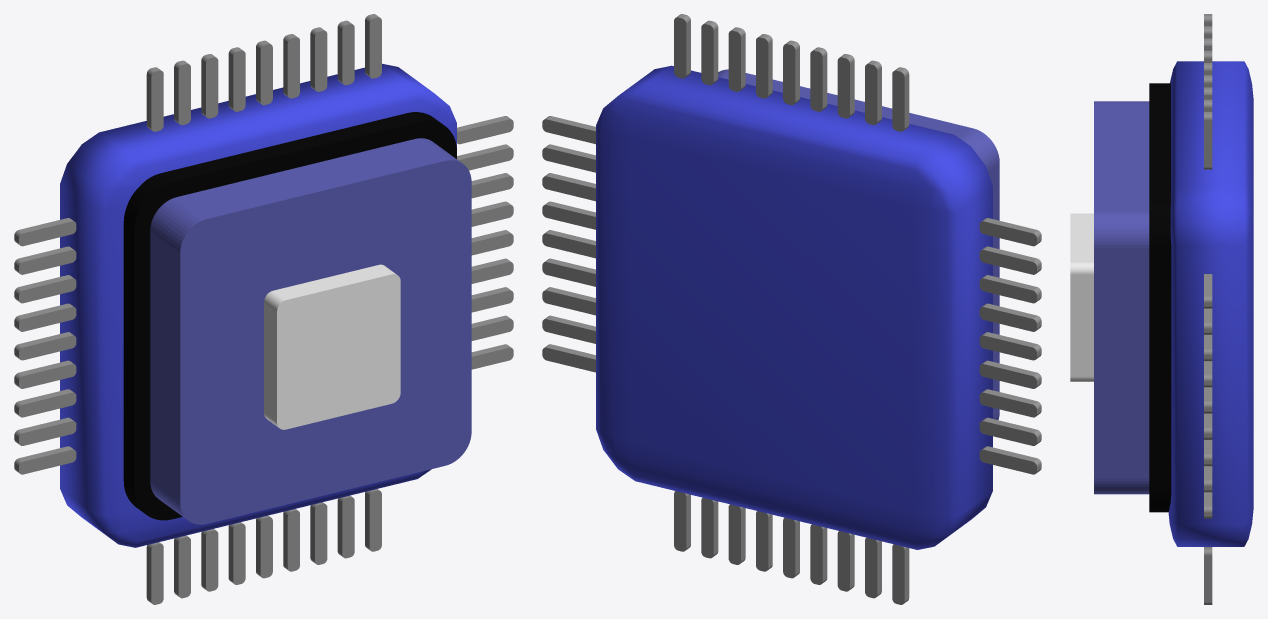
File: Semiconductor.fbx
3 renders of one model, left to right at view 1: azimuth 30°, elevation 25°; view 2: azimuth 150°, elevation 25°; view 3: azimuth 270°, elevation 25°, orthographic. The views are drawn at different scales.
Parts seen in each view (by area): view 1: Mesh_2.002, Cube.001, Mesh_3.002, Mesh_0.003, Mesh_30.002, Mesh_34.002, Mesh_14.002, Mesh_18.002, Mesh_6.002, Mesh_12.002, Mesh_36.002, Mesh_8.002 (+28 smaller); view 2: Cube.001, Mesh_2.002, Mesh_30.002, Mesh_34.002, Mesh_14.002, Mesh_18.002, Mesh_6.002, Mesh_33.002, Mesh_5.002, Mesh_25.002, Mesh_37.002, Mesh_13.002 (+26 smaller); view 3: Cube.001, Mesh_2.002, Mesh_0.003, Mesh_3.002, Mesh_38.002, Mesh_4.002, Mesh_39.002.
Boxes of the visible parts, x1,y1,x2,y2 form: Mesh_2.002: (150, 138, 471, 524); Cube.001: (60, 63, 456, 547); Mesh_3.002: (264, 264, 400, 429); Mesh_0.003: (123, 112, 456, 520); Mesh_30.002: (310, 27, 327, 91); Mesh_34.002: (337, 20, 354, 85); Mesh_14.002: (201, 54, 218, 118); Mesh_18.002: (228, 47, 245, 111); Mesh_6.002: (146, 67, 163, 131); Mesh_12.002: (310, 502, 327, 564); Mesh_36.002: (146, 542, 163, 604); Mesh_8.002: (337, 495, 354, 558); Cube.001: (596, 65, 992, 549); Mesh_2.002: (718, 69, 999, 419); Mesh_30.002: (728, 27, 745, 91); Mesh_34.002: (701, 20, 718, 85); Mesh_14.002: (837, 54, 854, 118); Mesh_18.002: (810, 47, 827, 111); Mesh_6.002: (892, 67, 909, 131); Mesh_33.002: (979, 246, 1041, 274); Mesh_5.002: (979, 446, 1041, 474); Mesh_25.002: (979, 303, 1041, 331); Mesh_37.002: (979, 218, 1041, 246); Mesh_13.002: (979, 389, 1041, 417); Cube.001: (1168, 61, 1253, 546); Mesh_2.002: (1094, 101, 1149, 494); Mesh_0.003: (1149, 83, 1171, 512); Mesh_3.002: (1070, 213, 1093, 381); Mesh_38.002: (1204, 112, 1212, 169); Mesh_4.002: (1204, 547, 1212, 604); Mesh_39.002: (1204, 274, 1212, 308).
Bounding box in the file's own units: 710 × 731 × 248.
